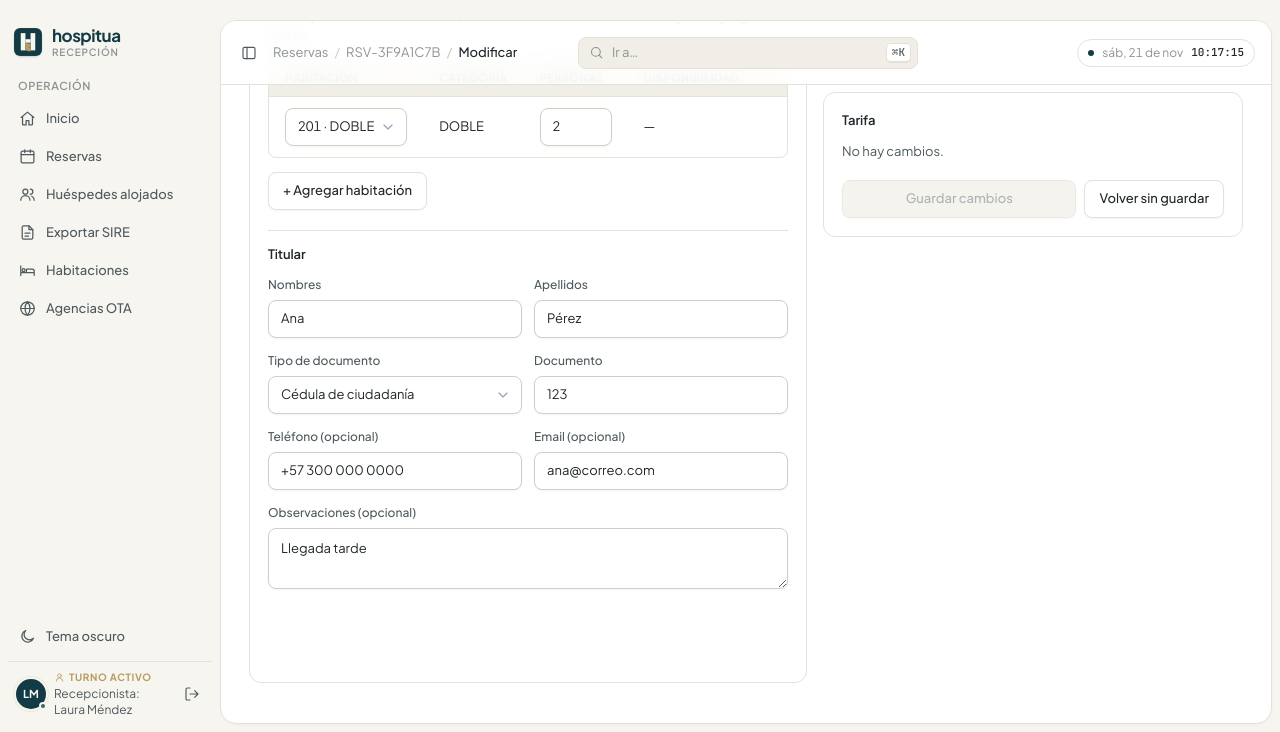
Test: Pantalla "Modificar" (T014 de update-reservation) › borrar las observaciones envía notes en null; sin nada que recotizar confirma sin tarifas y vuelve al detalle
Later steps or results of the test are not shown.
(page scrolled)
Clear the text box labelled "Observaciones (opcional)" at (528, 558), box x1=268 y1=528 x2=788 y2=589
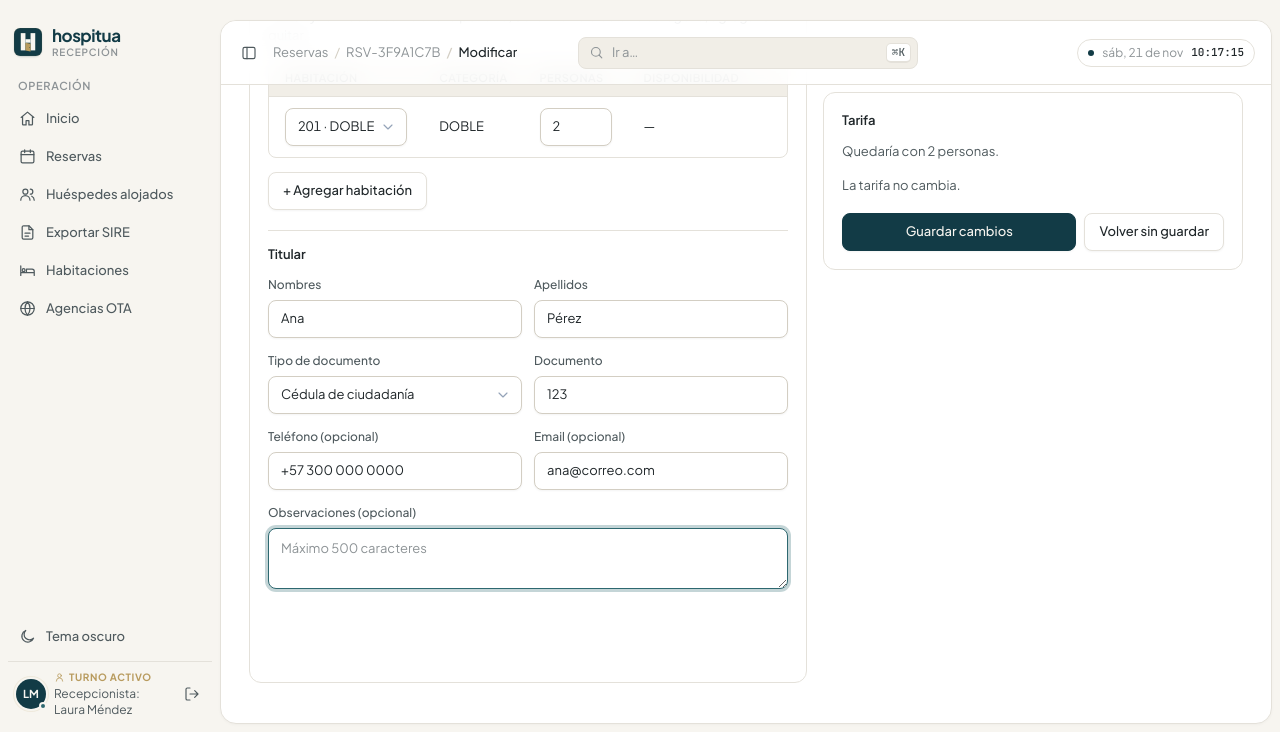
Result: the text "La tarifa no cambia." is shown at x1=842 y1=176 x2=960 y2=192
